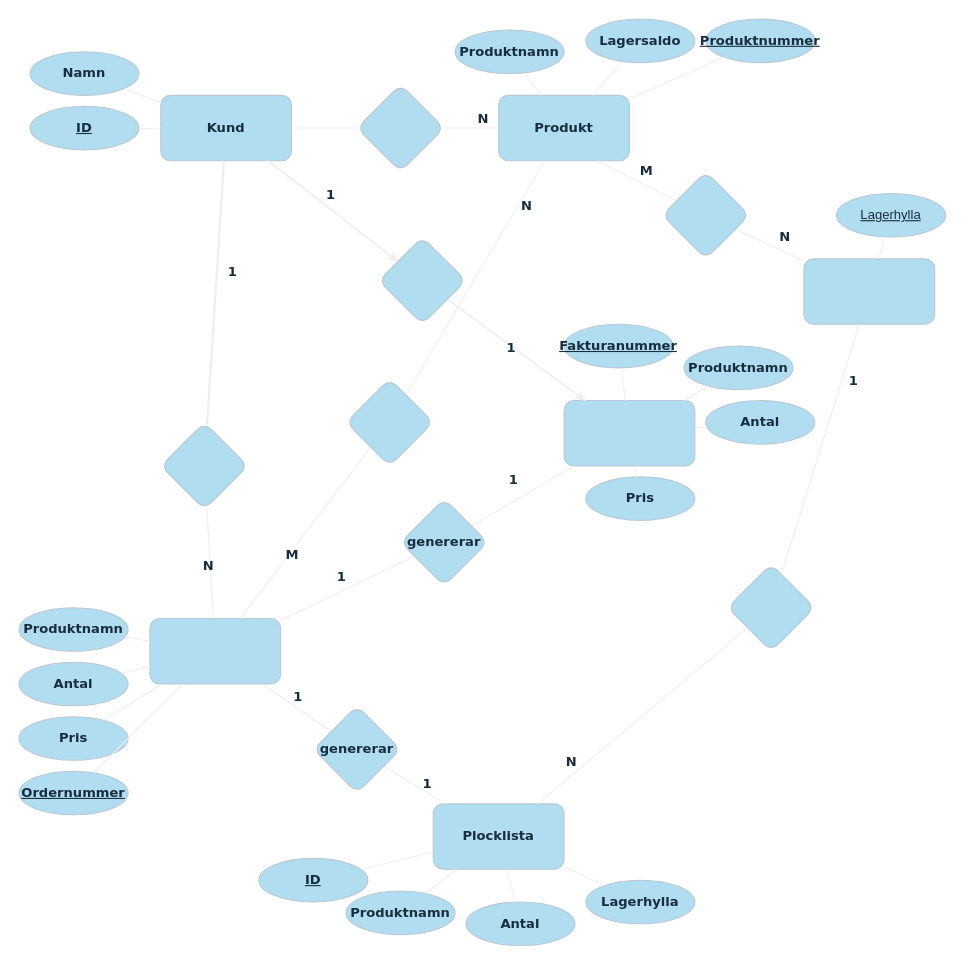
The diagram is 965 pixels wide and 965 high, and some of its shapes have lost their labels. The shapes that lost their labels are listed below. From the top down, each one's box as (x1, y1, x2, y2) in pixels, then its label:
(356, 83, 444, 172): Beställer
(661, 171, 749, 259): finns på
(378, 236, 466, 324): betalar
(803, 258, 935, 324): Lager
(345, 378, 433, 466): placeras i
(563, 399, 695, 466): Faktura
(160, 421, 248, 510): Placerar
(726, 563, 815, 651): får en
(149, 617, 281, 684): Order
